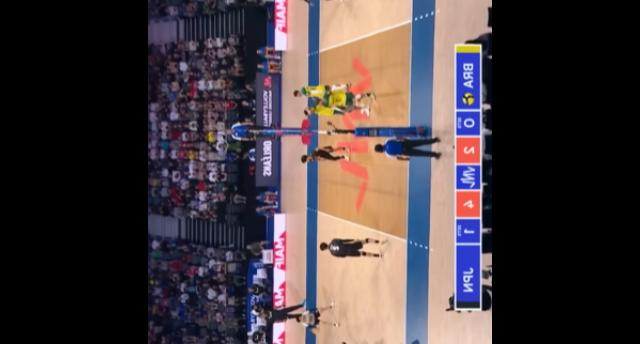Levantador: (292, 136, 354, 172), (290, 302, 340, 336)
Libero: (283, 0, 342, 12)
bola: (310, 319, 326, 339)
